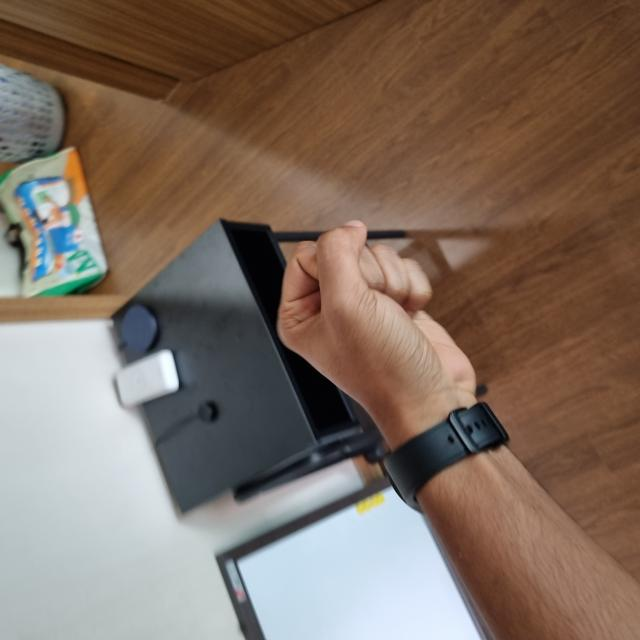Rock: (199, 282, 414, 478)
